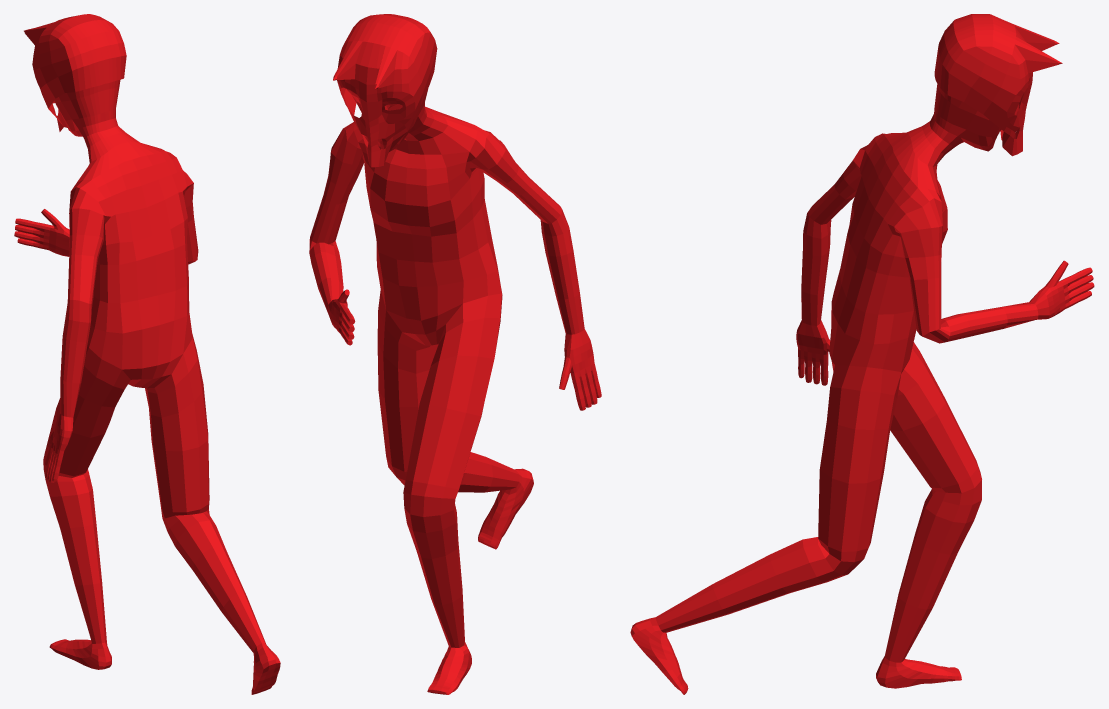
Rendered from marchaE_000045.obj.
3 renders of one model, left to right at view 1: azimuth 30°, elevation 25°; view 2: azimuth 150°, elevation 25°; view 3: azimuth 270°, elevation 25°, orthographic. The views are drawn at different scales.
Visible parts, largest first — view 1: Plane.002_Plane.001; view 2: Plane.002_Plane.001; view 3: Plane.002_Plane.001.
Boxes of the visible parts, x1=… form: Plane.002_Plane.001: x1=14, y1=14, x2=280, y2=694; Plane.002_Plane.001: x1=309, y1=14, x2=601, y2=694; Plane.002_Plane.001: x1=630, y1=14, x2=1094, y2=694.
Size of the model in its own units: 2.27 by 6.52 by 4.05.
